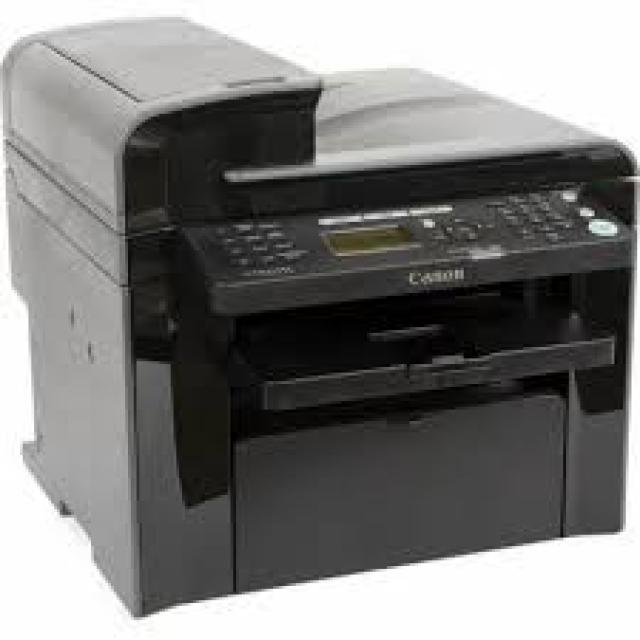printer: (0, 11, 637, 618)
